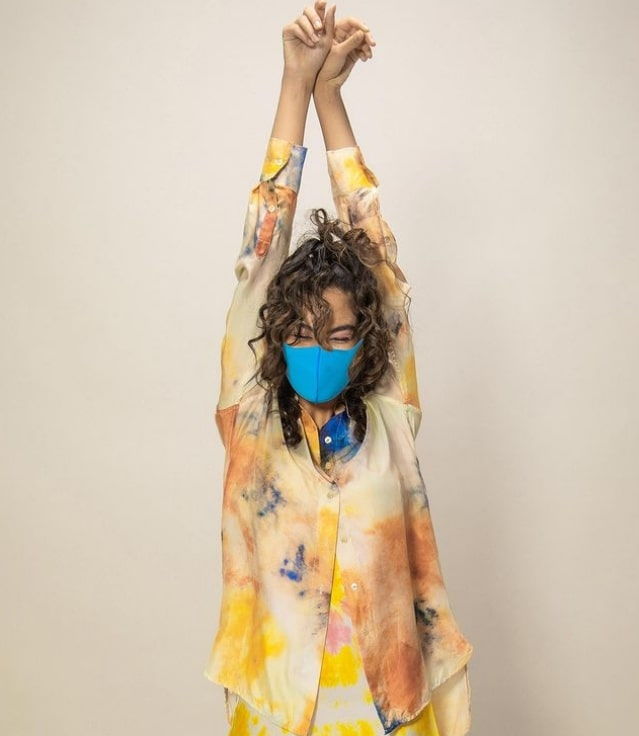with_mask: (268, 276, 376, 413)
